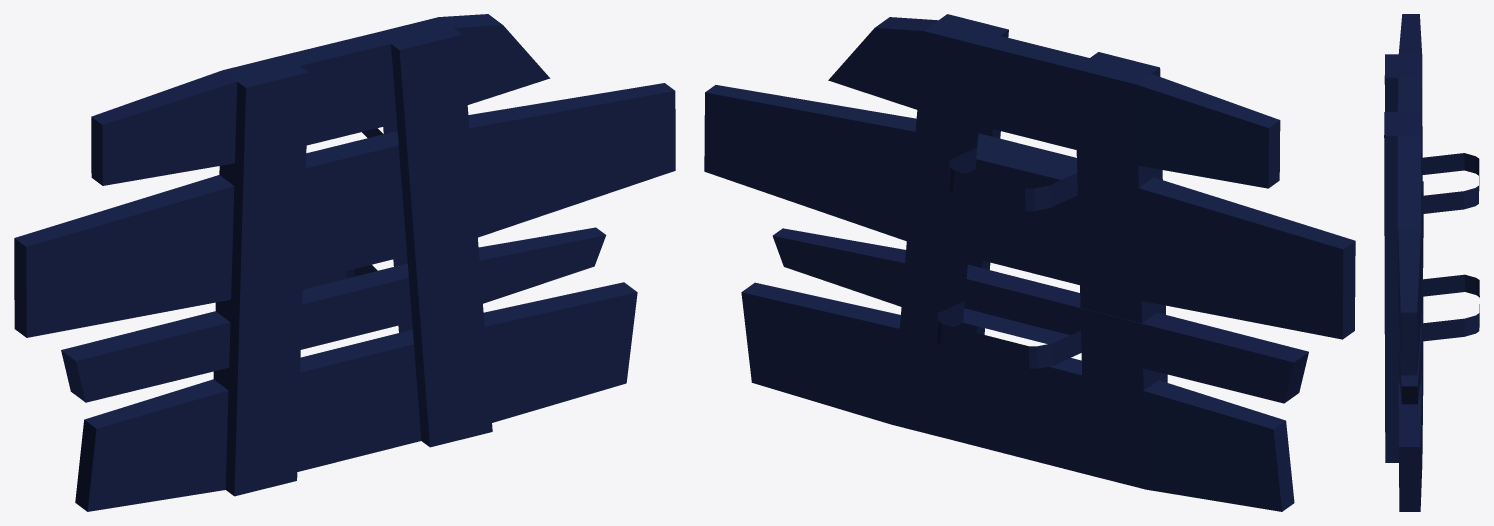
File: Shield_Wood.fbx
3 views of the same model, side by side, from view 1: azimuth 30°, elevation 25°; view 2: azimuth 150°, elevation 25°; view 3: azimuth 270°, elevation 25° (orthographic). The views are drawn at different scales.
Parts seen in each view (by area): view 1: WoodenShield; view 2: WoodenShield; view 3: WoodenShield.
Part boxes in pixels (x1,y1,x2,y2): WoodenShield: (14, 14, 675, 511); WoodenShield: (704, 14, 1355, 511); WoodenShield: (1384, 14, 1479, 511).
Bounding box in the file's own units: 71.12 × 42.7 × 11.67.
